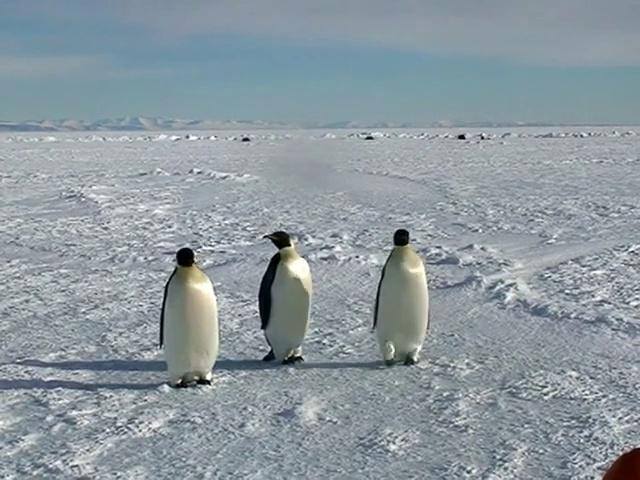animal: (375, 230, 430, 366)
